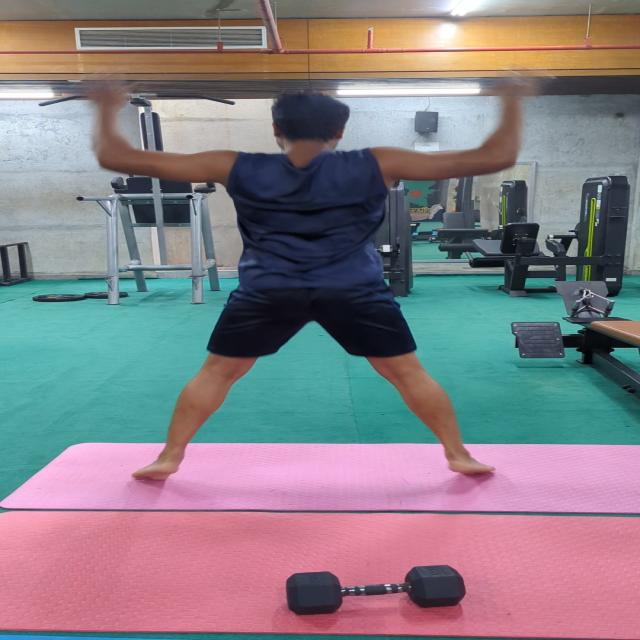Normal_JumpingJacks: (61, 60, 585, 508)
